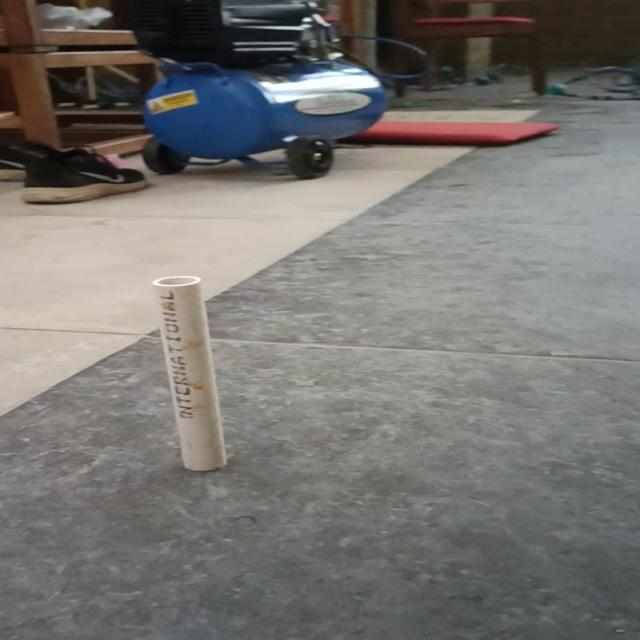Cube: (150, 274, 230, 472)
